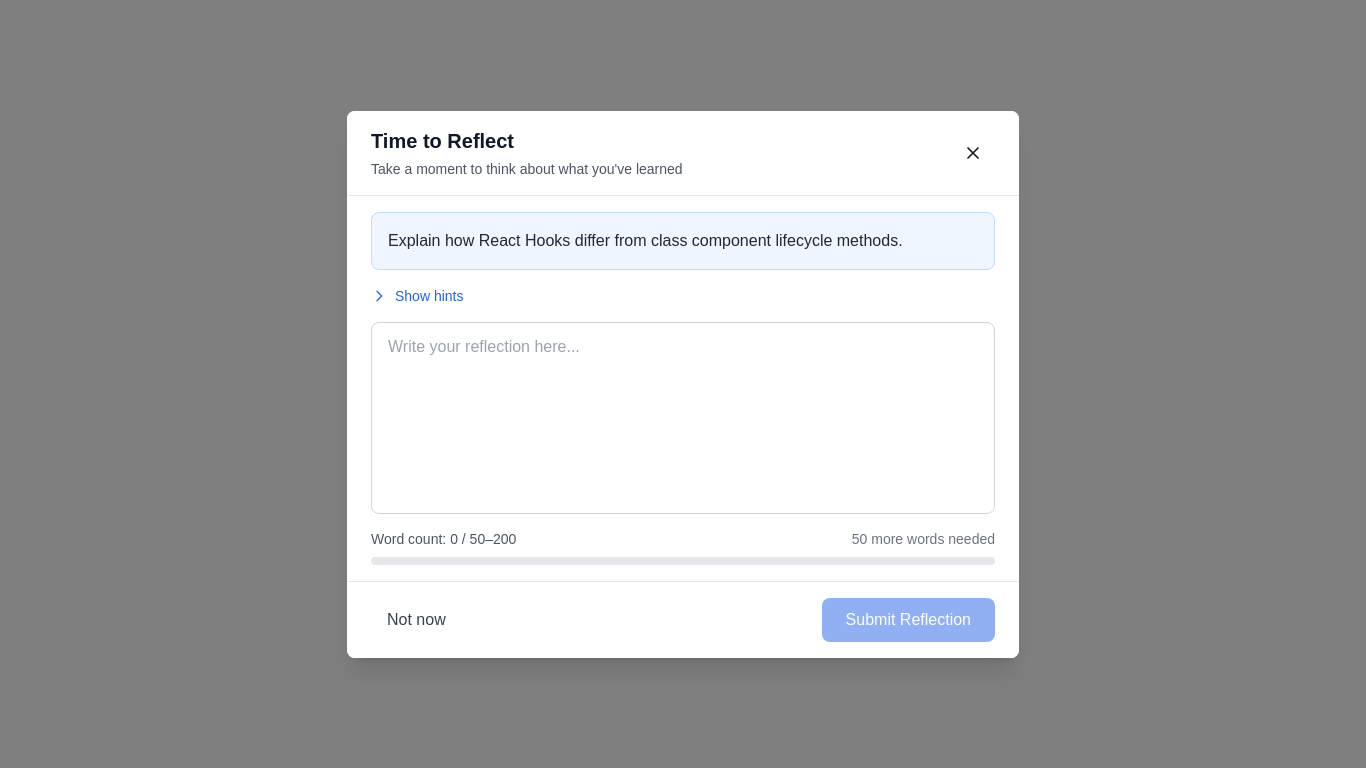
it: ReflectionModal › updates word count as user types
Type "This is a test reflection with multiple words." into the text box with placeholder "Write your reflection here..." at (683, 418), box [371,322,995,514]
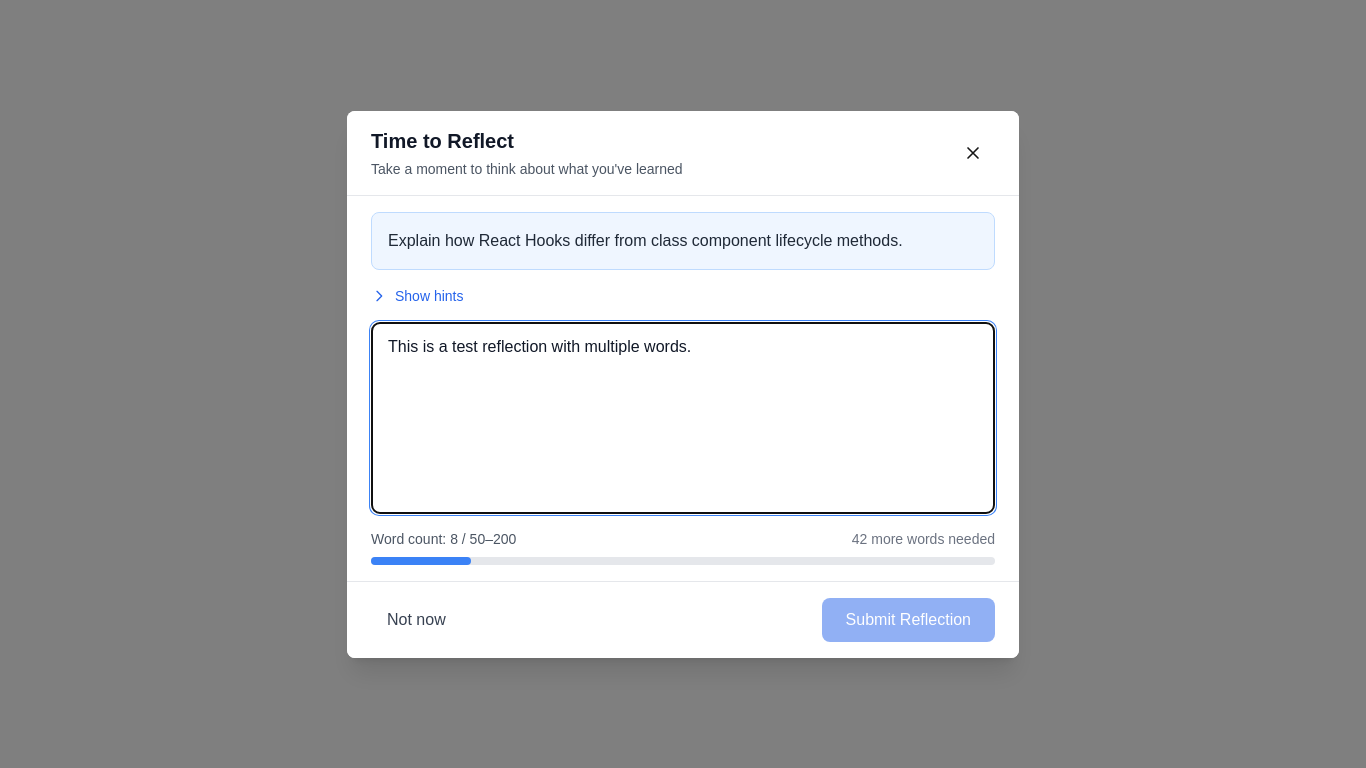
Expected: the text "8" is shown, [450,530,458,546]
